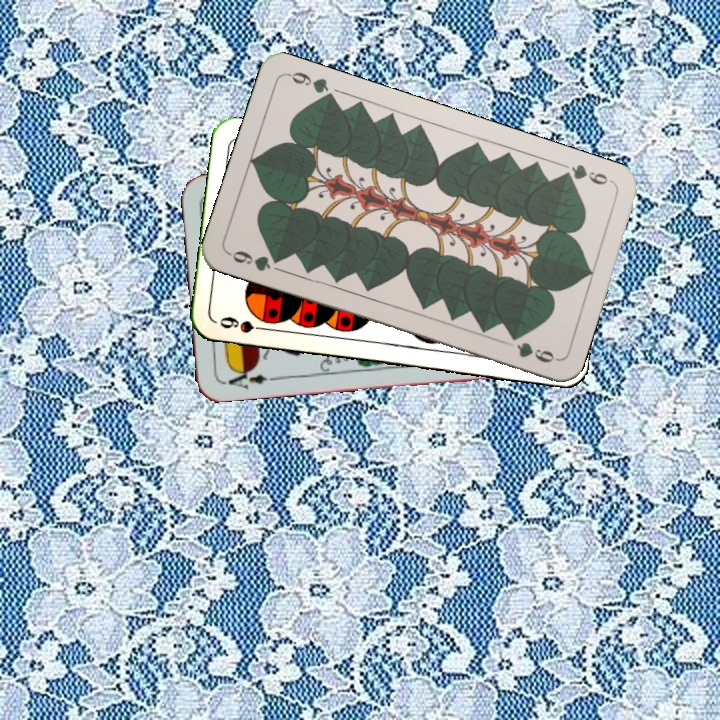EA: (225, 363, 280, 391)
G9: (224, 246, 285, 274), (556, 160, 617, 188)
S9: (215, 312, 274, 336)
